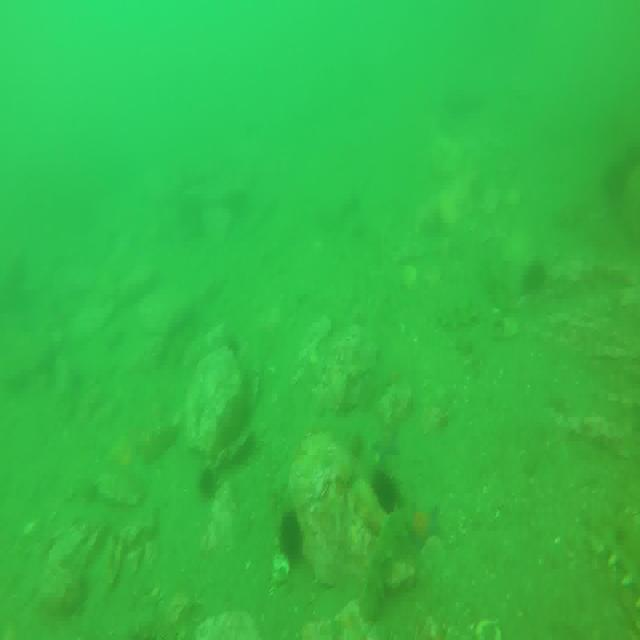echinus: (282, 510, 309, 567), (375, 464, 398, 517), (524, 257, 546, 289), (198, 464, 218, 498)
holothurian: (596, 490, 640, 623), (361, 520, 406, 623), (437, 296, 482, 332)
starfish: (406, 500, 443, 544)
